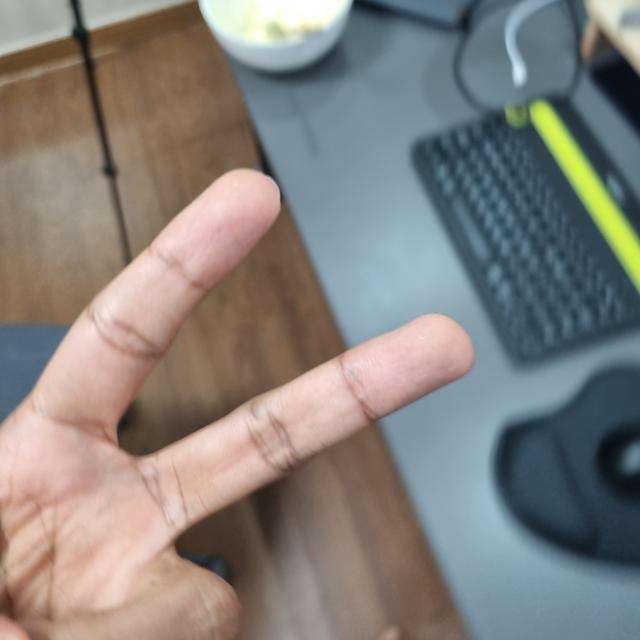Scissors: (0, 176, 476, 640)
